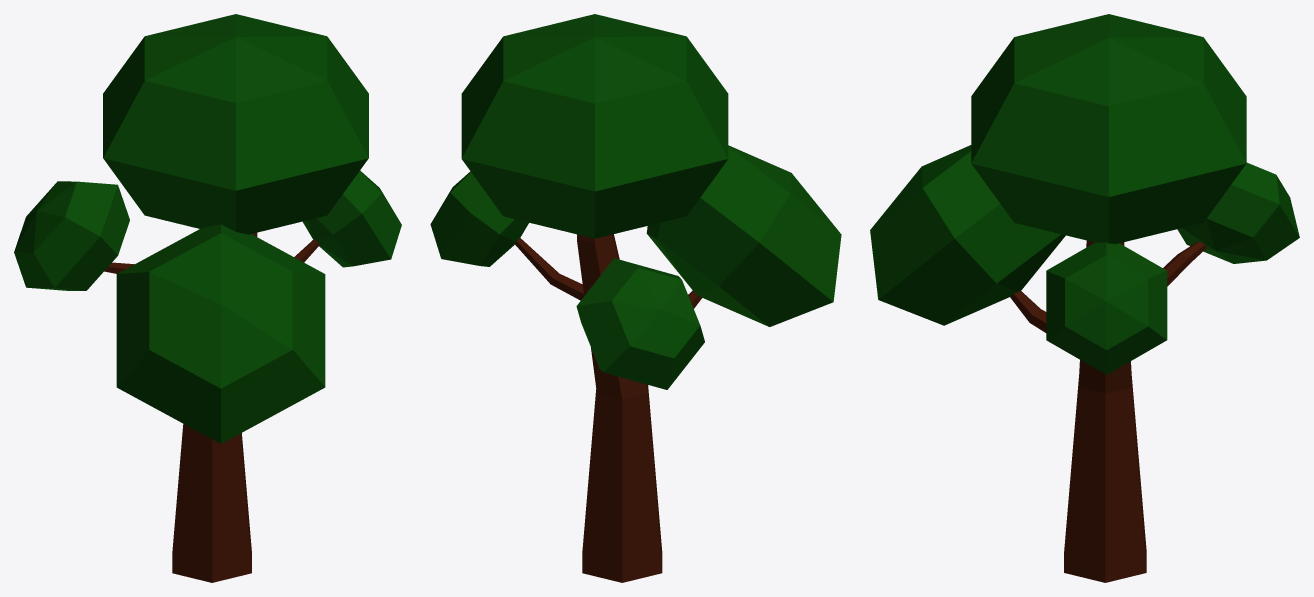
The model's file is tree2.FBX.
3 renders of one model, left to right at view 1: azimuth 30°, elevation 25°; view 2: azimuth 150°, elevation 25°; view 3: azimuth 270°, elevation 25°, orthographic. The views are drawn at different scales.
Visible parts, largest first — view 1: Cylinder008; view 2: Cylinder008; view 3: Cylinder008.
Part boxes in pixels (x1,y1,x2,y2): Cylinder008: (14,14,401,582); Cylinder008: (430,14,841,582); Cylinder008: (870,14,1299,582).
Bounding box in the file's own units: 95.72 × 142 × 103.
